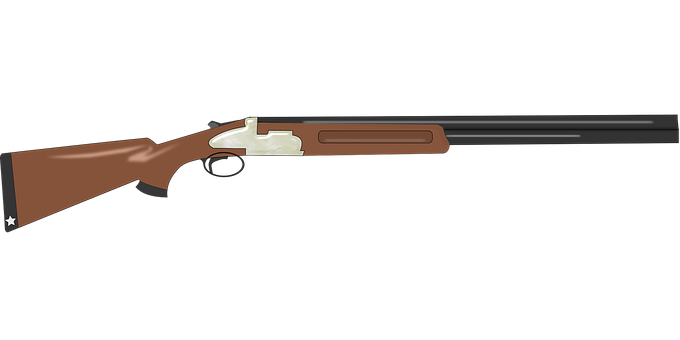shotgun: (1, 99, 680, 234)
